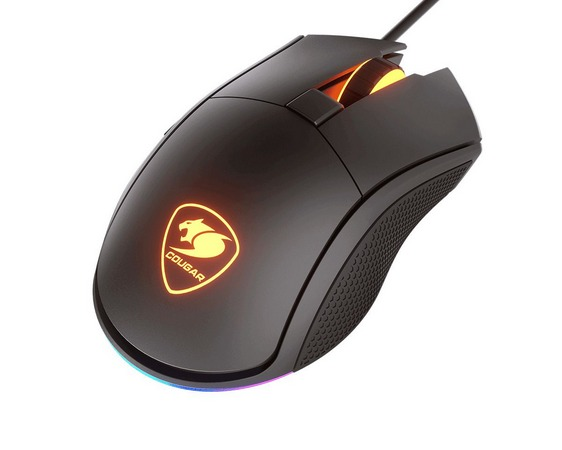mouse: (87, 10, 489, 398)
